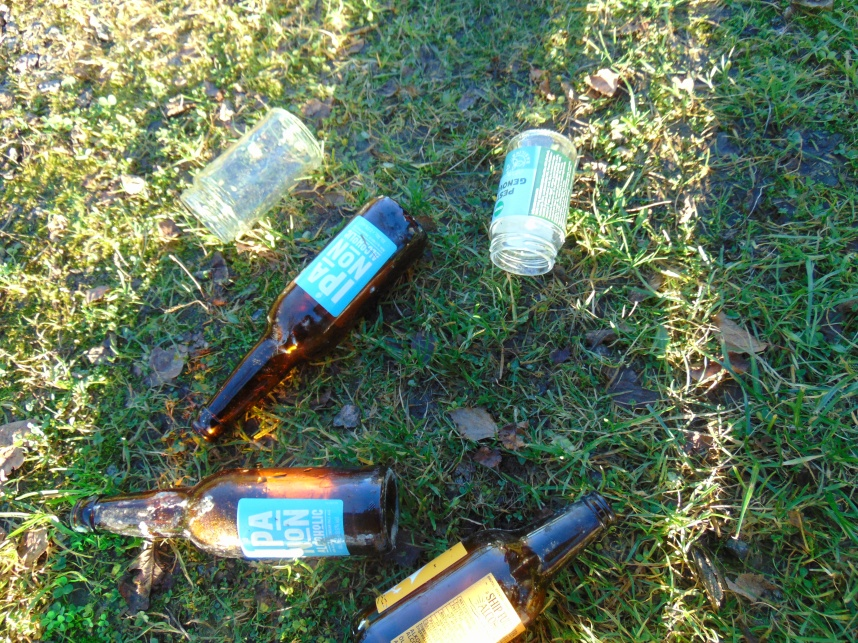glass_bottle: (195, 193, 429, 443), (349, 494, 617, 643), (71, 467, 402, 562), (175, 105, 323, 243), (488, 128, 576, 283)
